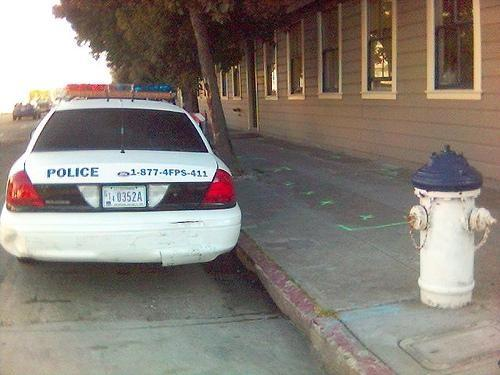car: (0, 84, 242, 268), (13, 103, 42, 122), (38, 102, 54, 111)
